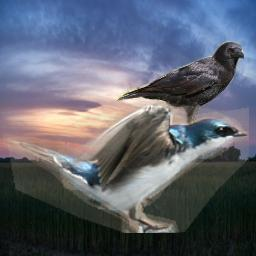Crow: (113, 41, 244, 145)
Swallow: (3, 101, 249, 233)
